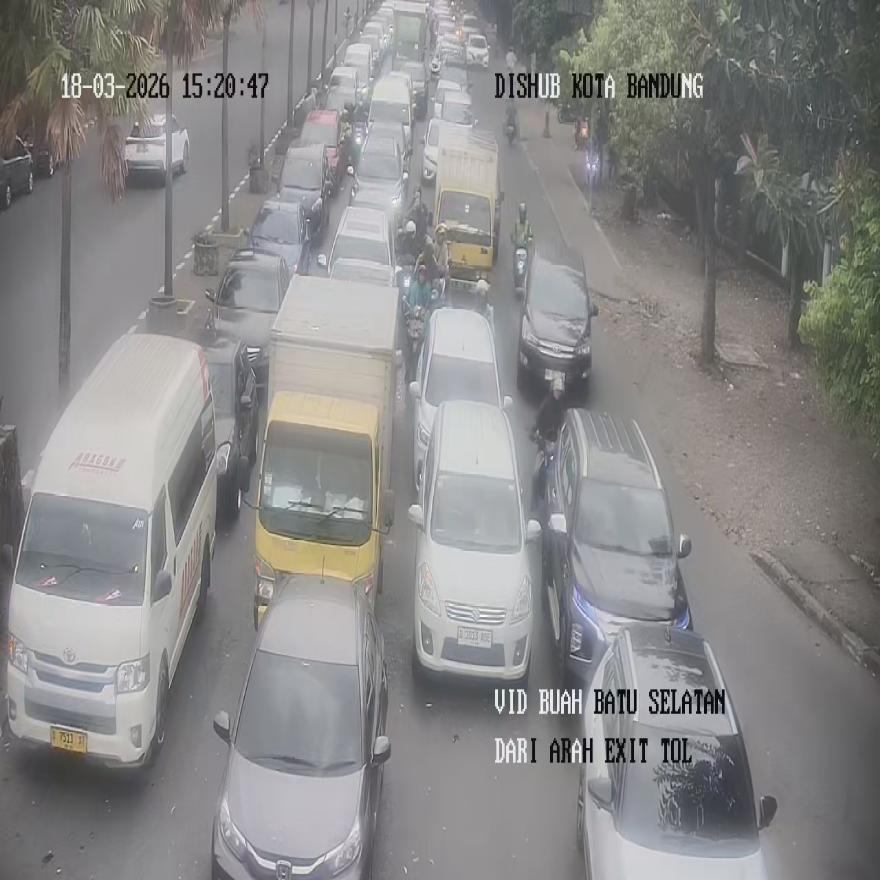Bis mini: (3, 332, 217, 766)
Mobil: (211, 574, 391, 876), (574, 622, 778, 878), (542, 409, 692, 687), (408, 401, 541, 684), (408, 306, 514, 496), (203, 248, 291, 397), (516, 238, 598, 396), (200, 335, 257, 516), (122, 111, 188, 185)
Motor: (528, 375, 564, 512), (530, 423, 557, 513), (512, 202, 534, 298), (403, 303, 425, 389), (586, 143, 600, 188), (573, 116, 588, 149), (505, 110, 517, 145)
Truk ringan: (241, 273, 400, 628), (434, 127, 502, 285)
